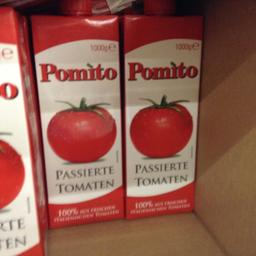tomato_sauce: (28, 10, 124, 225), (118, 12, 204, 218)
